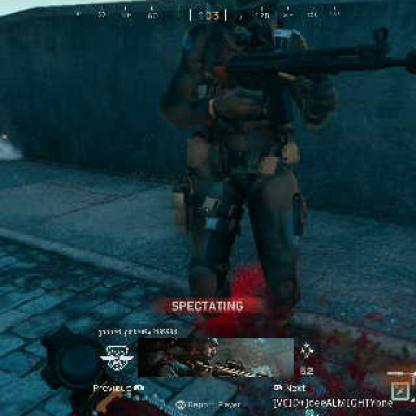enemy: (154, 12, 336, 314)
